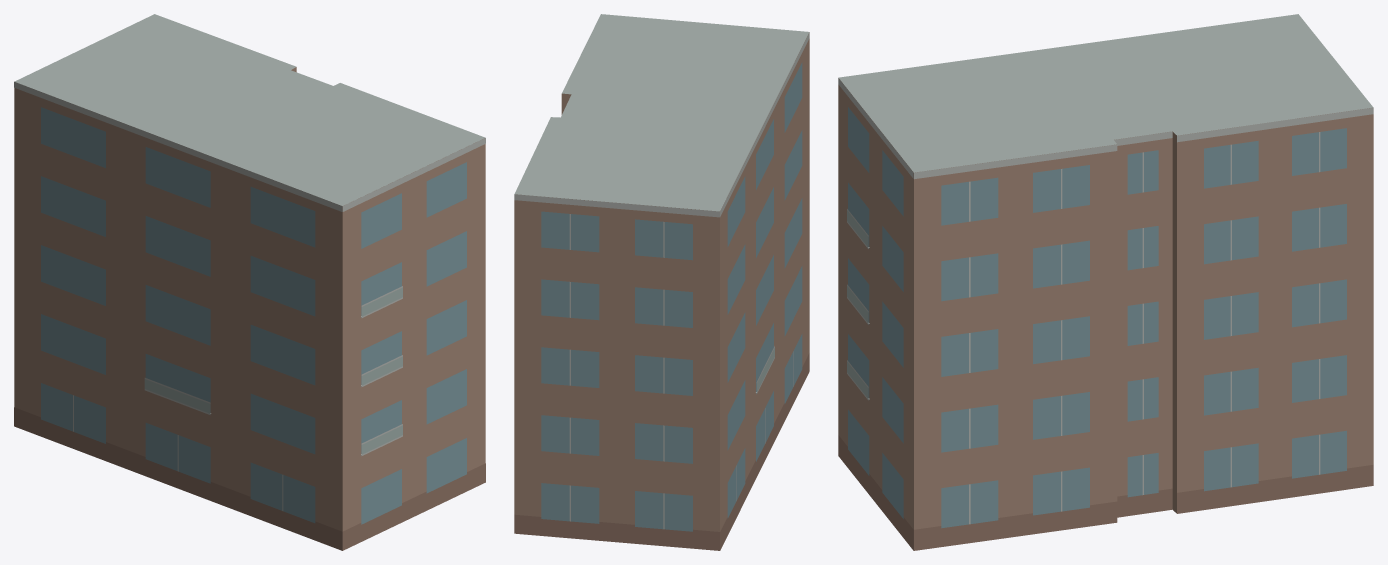
File: survey-upis-32701870.glb
3 views of the same model, side by side, from view 1: azimuth 30°, elevation 25°; view 2: azimuth 150°, elevation 25°; view 3: azimuth 270°, elevation 25° (orthographic). The views are drawn at different scales.
Parts seen in each view (by area): view 1: survey-upis-32701870.tmp; view 2: survey-upis-32701870.tmp; view 3: survey-upis-32701870.tmp.
Part boxes in pixels (box(x1,y1,x2,y2)): survey-upis-32701870.tmp: box(14, 14, 485, 550); survey-upis-32701870.tmp: box(514, 14, 809, 550); survey-upis-32701870.tmp: box(838, 14, 1373, 550).
Size of the model in its own units: 12.51 by 13.9 by 17.83.
